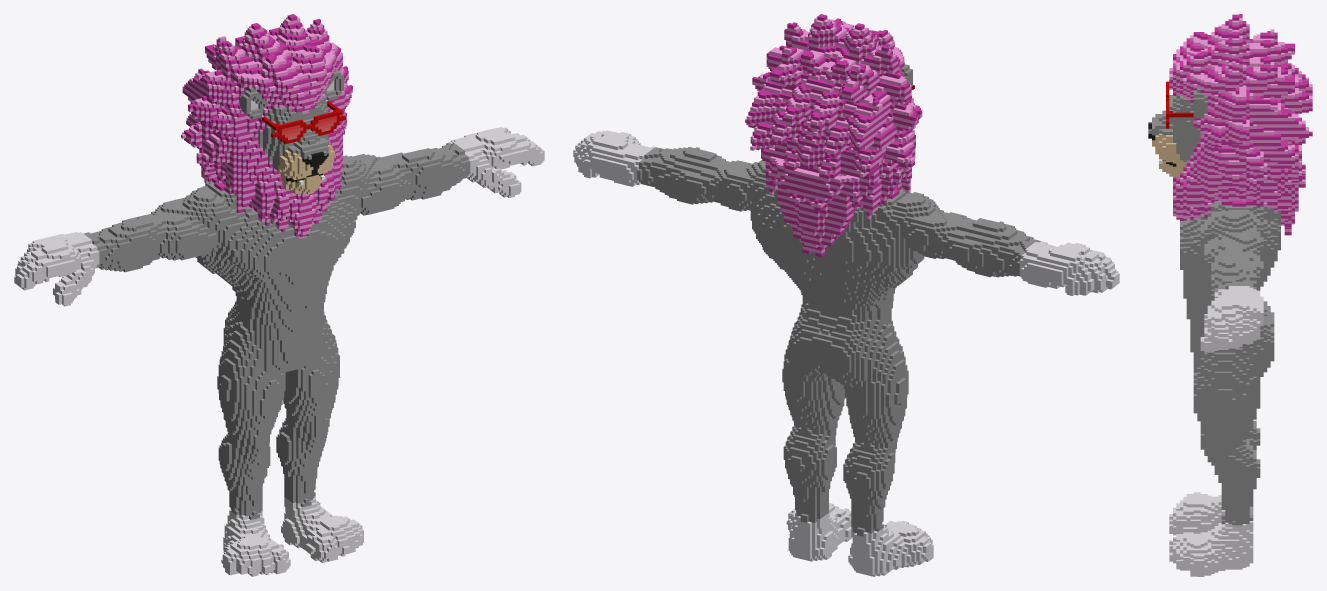
Rendered from 46-BJa4Qgan.glb.
3 views of the same model, side by side, from view 1: azimuth 30°, elevation 25°; view 2: azimuth 150°, elevation 25°; view 3: azimuth 270°, elevation 25° (orthographic). The views are drawn at different scales.
Visible parts, largest first — view 1: standard; view 2: standard; view 3: standard.
Boxes of the visible parts, x1=… form: standard: x1=14, y1=14, x2=544, y2=576; standard: x1=573, y1=14, x2=1119, y2=576; standard: x1=1148, y1=14, x2=1312, y2=576.
Bounding box in the file's own units: 17.2 × 16.5 × 4.7.
4 materials, 4 textured.
